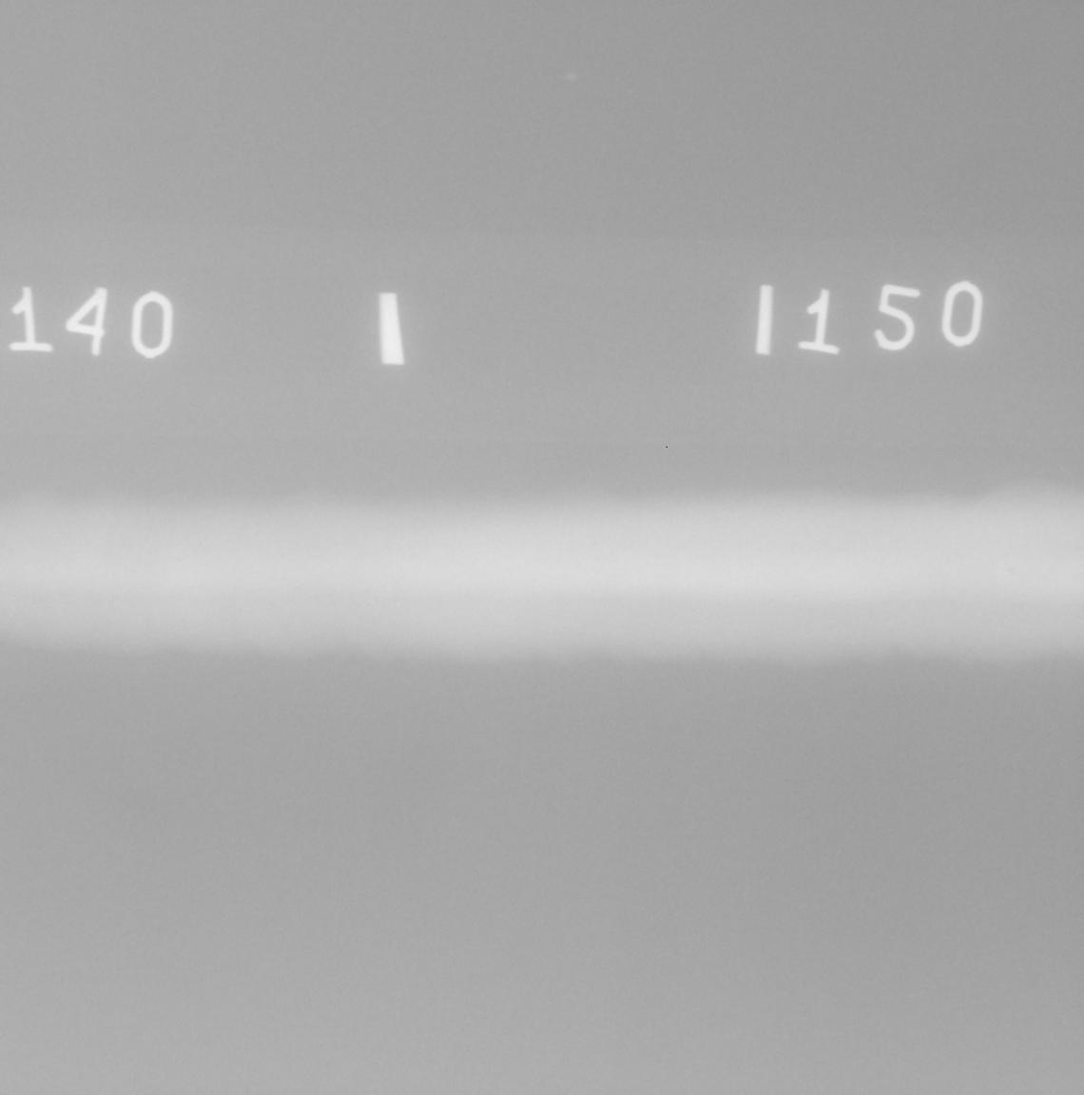Pore/Porosity: (1007, 567, 1012, 572)
